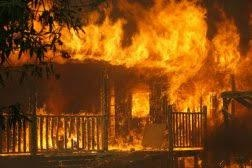fire: (21, 10, 247, 152)
